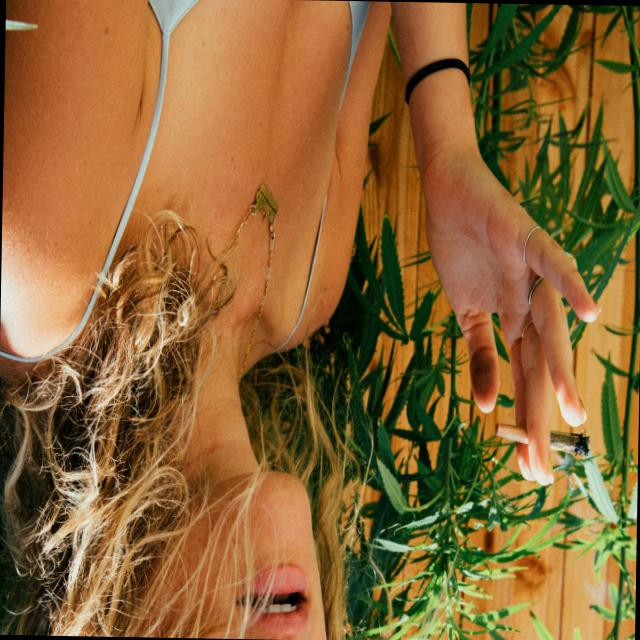smoke: (480, 390, 596, 490)
